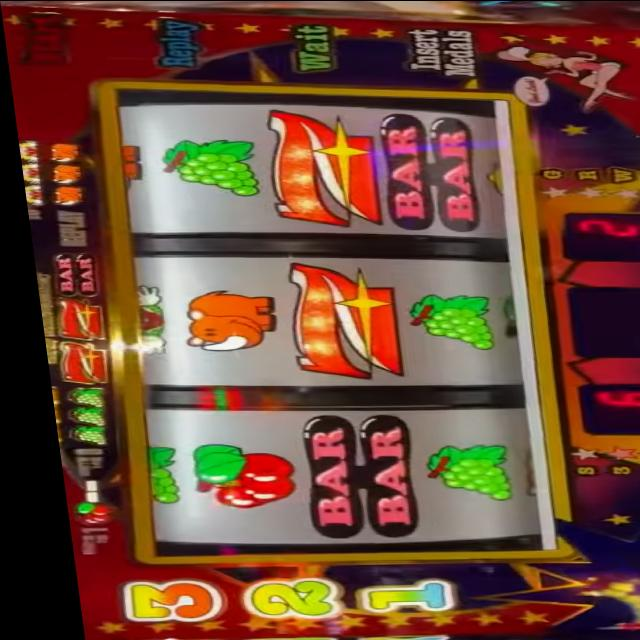bar: (284, 413, 412, 537), (370, 115, 485, 231), (42, 252, 94, 296)
cherry: (176, 442, 282, 509), (60, 502, 104, 524), (58, 406, 98, 426), (56, 426, 99, 444), (57, 388, 97, 406)
clown: (123, 284, 164, 356), (15, 138, 38, 162), (19, 183, 41, 205), (18, 162, 40, 183)
display: (88, 100, 558, 560)
elephant: (167, 288, 270, 350), (44, 164, 82, 184), (45, 186, 82, 206), (43, 142, 77, 162)
grape: (149, 138, 260, 196), (410, 443, 506, 501), (398, 294, 490, 349), (133, 440, 169, 506)
z: (257, 108, 381, 224), (277, 264, 398, 379), (45, 300, 102, 340), (49, 340, 101, 382)
